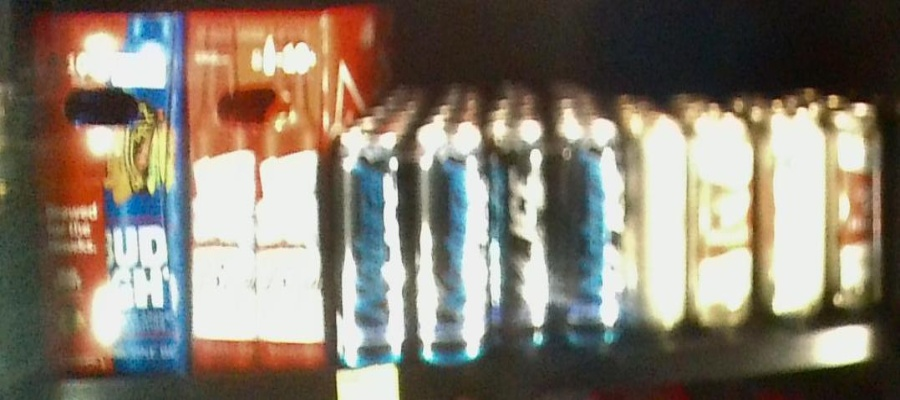bottle: (27, 13, 191, 376), (186, 4, 326, 373), (333, 125, 491, 369), (493, 123, 628, 353), (759, 111, 889, 321), (630, 113, 752, 328)
